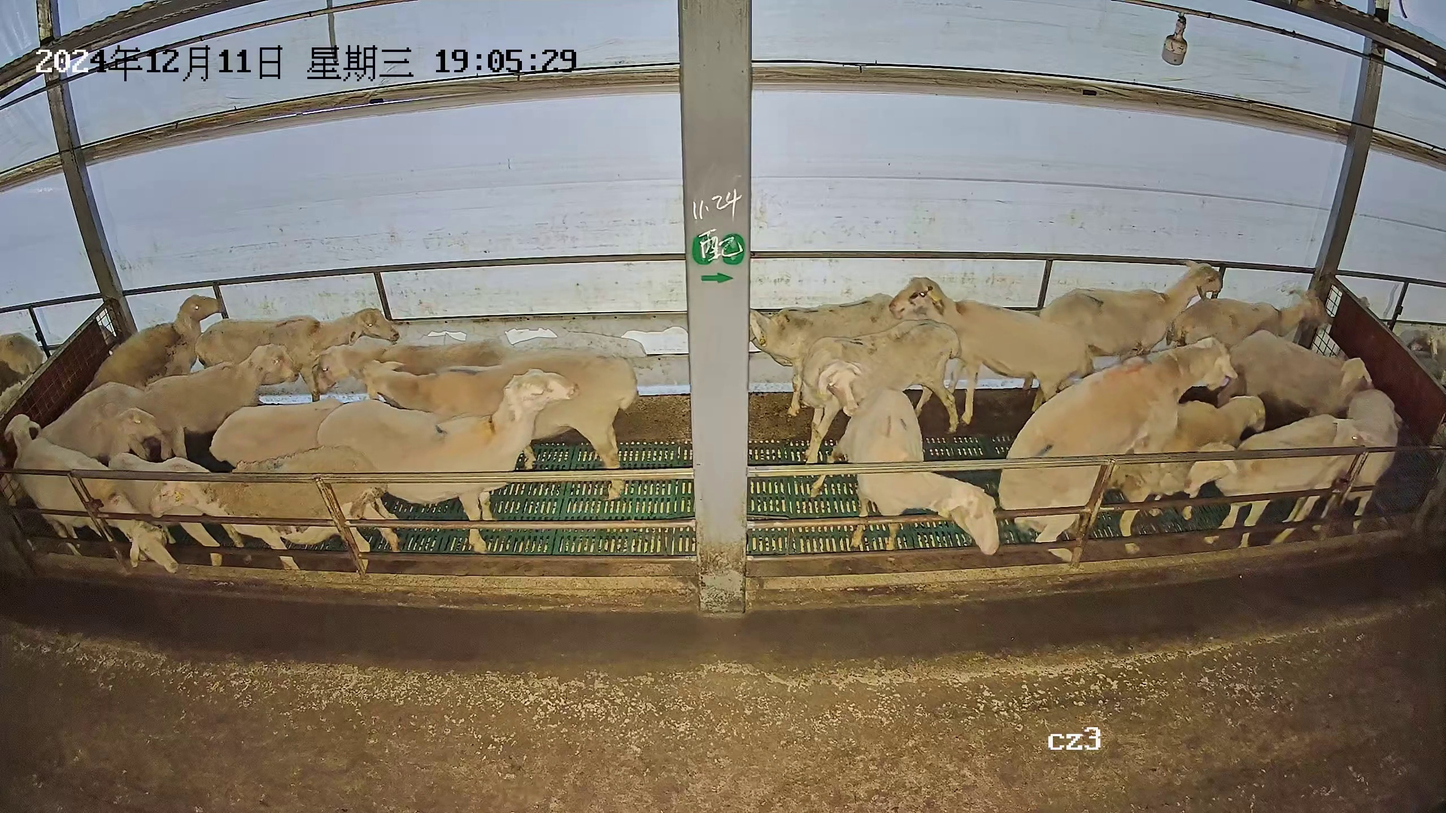Smounting: (996, 334, 1271, 563)
mounted: (1097, 392, 1269, 554)
